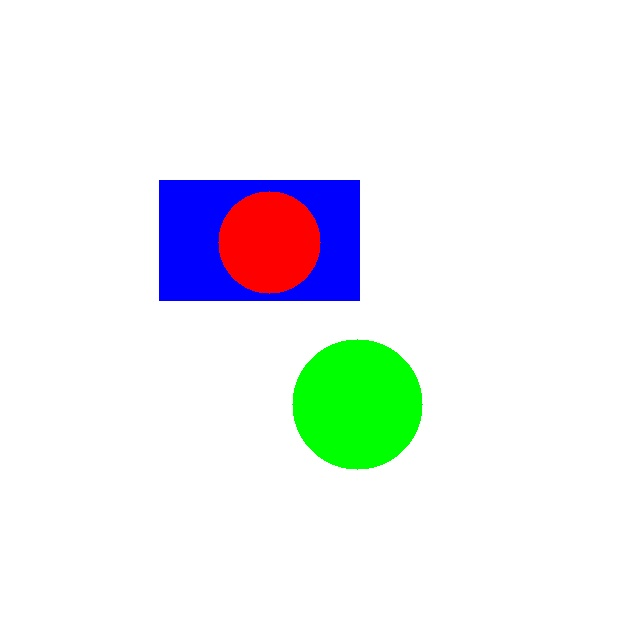cartao: (159, 180, 359, 300)
rosca_externa: (292, 339, 422, 469)
rosca_interna: (218, 191, 320, 293)
